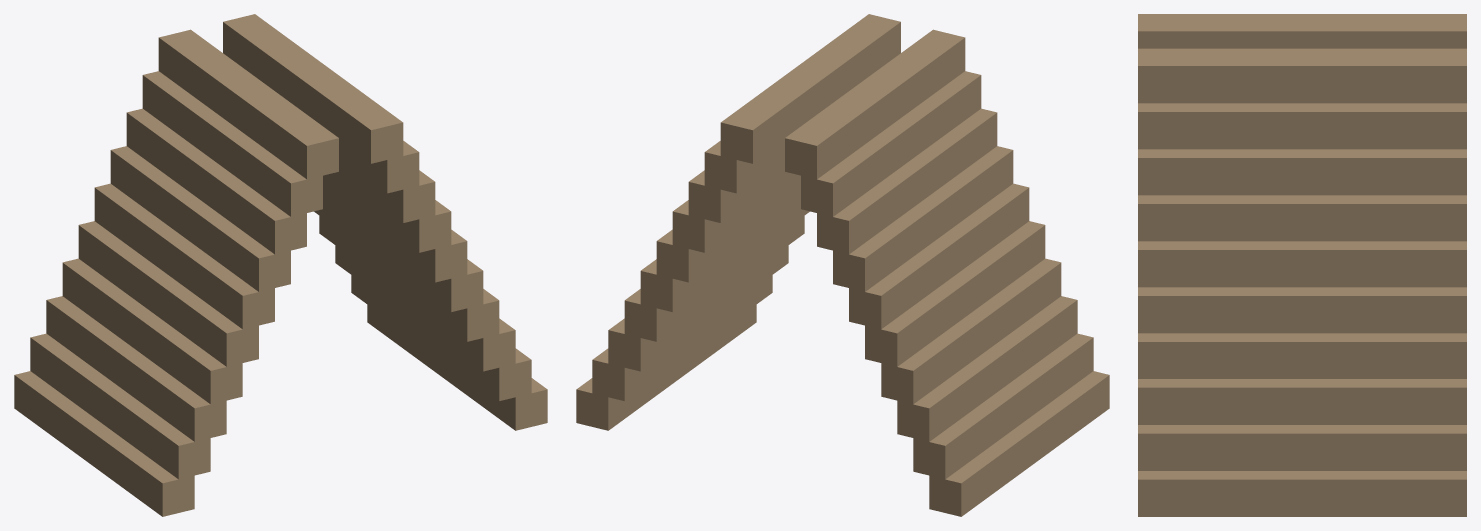
Rendered from architecture-09.glb.
The picture shows the model from 3 angles, left to right: view 1: azimuth 30°, elevation 25°; view 2: azimuth 150°, elevation 25°; view 3: azimuth 270°, elevation 25°; orthographic projection. The views are drawn at different scales.
Parts seen in each view (by area): view 1: Concrete arch; view 2: Concrete arch; view 3: Concrete arch.
Boxes of the visible parts, left/top/right/bottom form: Concrete arch: left=14, top=14, right=547, bottom=516; Concrete arch: left=576, top=14, right=1109, bottom=516; Concrete arch: left=1138, top=14, right=1466, bottom=516.
Size of the model in its own units: 1.92 by 1.6 by 1.28.
